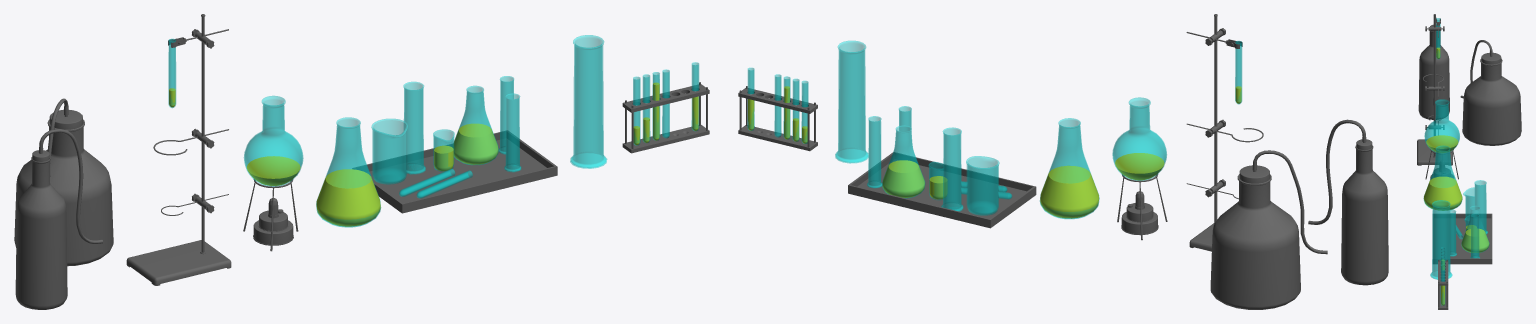
The model's file is SM_LaboratoryGlasswareFull.fbx.
3 views of the same model, side by side, from view 1: azimuth 30°, elevation 25°; view 2: azimuth 150°, elevation 25°; view 3: azimuth 270°, elevation 25° (orthographic). The views are drawn at different scales.
Visible parts, largest first — view 1: Laboratory_glasswareFull; view 2: Laboratory_glasswareFull; view 3: Laboratory_glasswareFull.
Boxes of the visible parts, box(x1,y1,x2,y2) form: Laboratory_glasswareFull: box(14, 14, 709, 309); Laboratory_glasswareFull: box(738, 14, 1388, 309); Laboratory_glasswareFull: box(1417, 14, 1521, 309).
Size of what is drawn, in the model's own units: 161 by 54.38 by 35.12.
